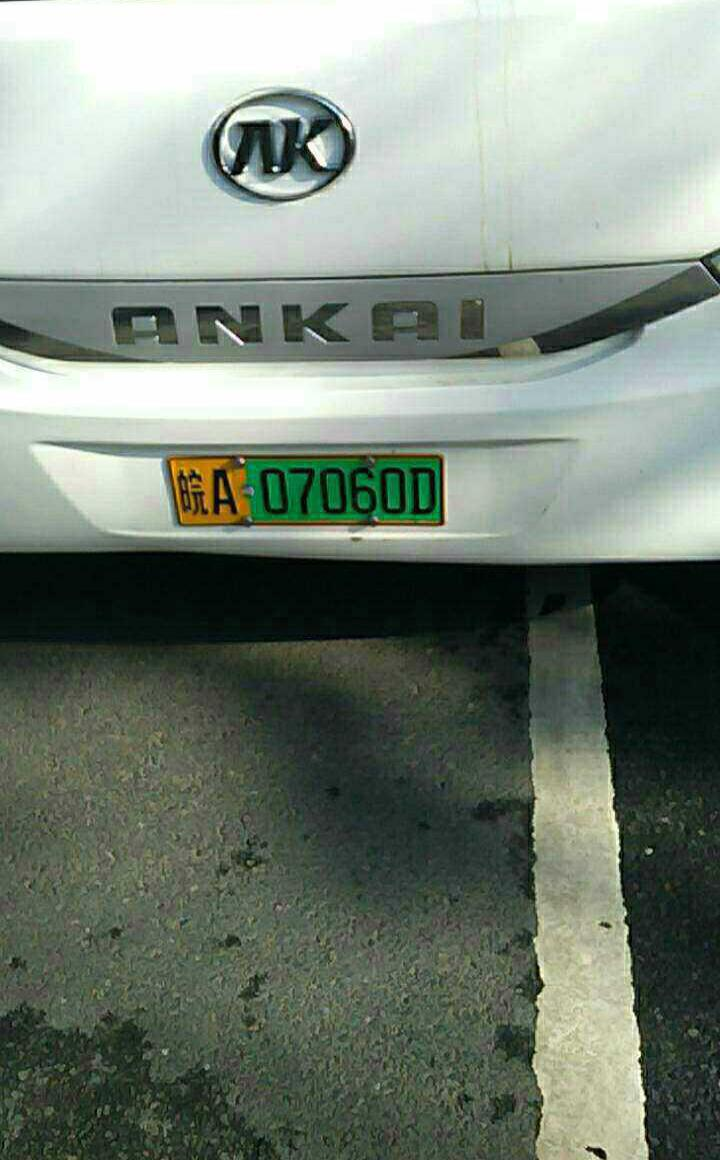car: (159, 441, 472, 536)
